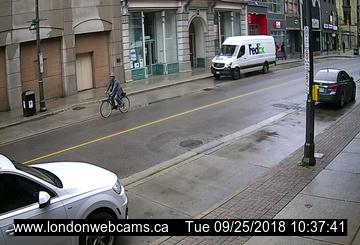Car: (1, 149, 133, 245), (210, 33, 279, 80), (313, 66, 358, 111)
riding bicycle: (96, 72, 135, 120)
